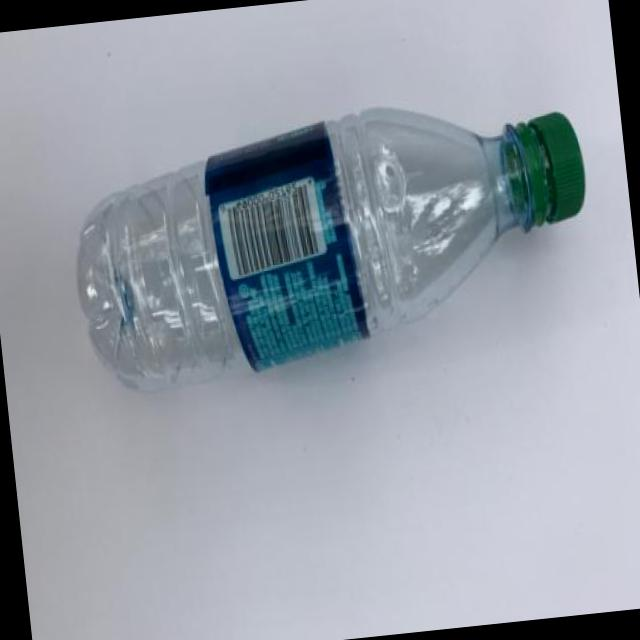plastic: (91, 91, 580, 380)
